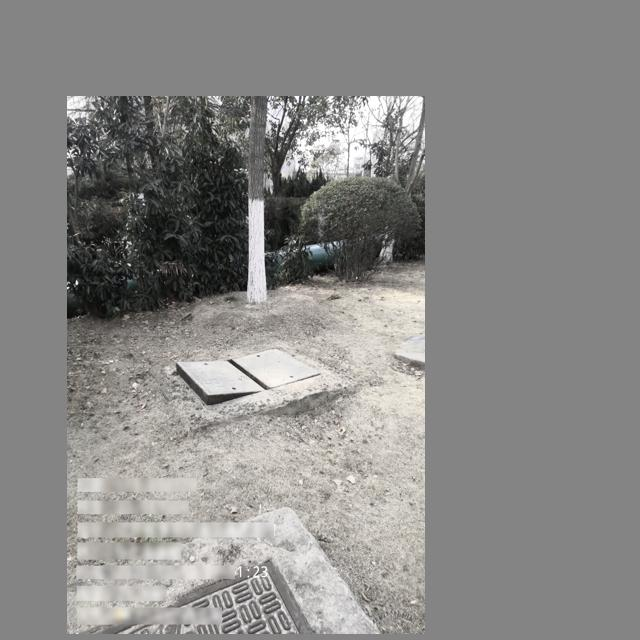uncovered: (175, 347, 320, 404)
